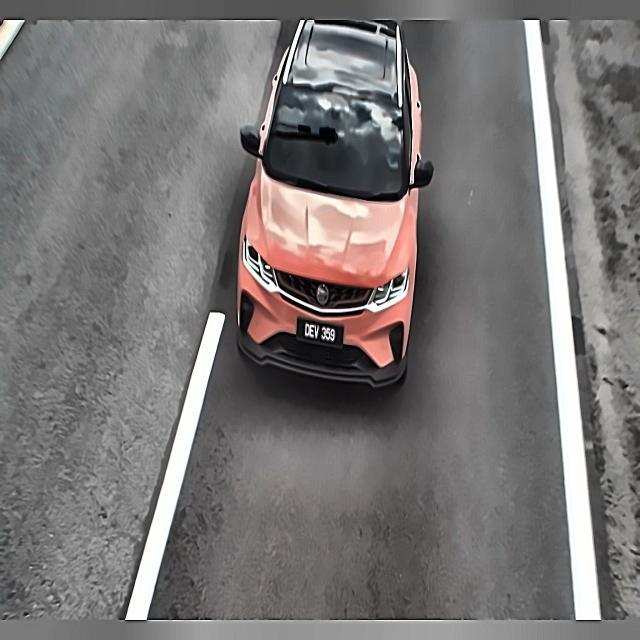car: (297, 314, 341, 349)
